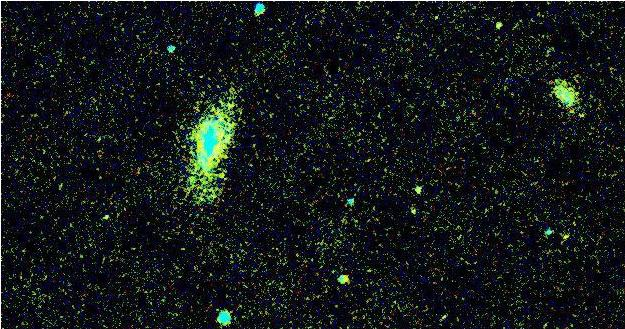star: (478, 12, 508, 42)
